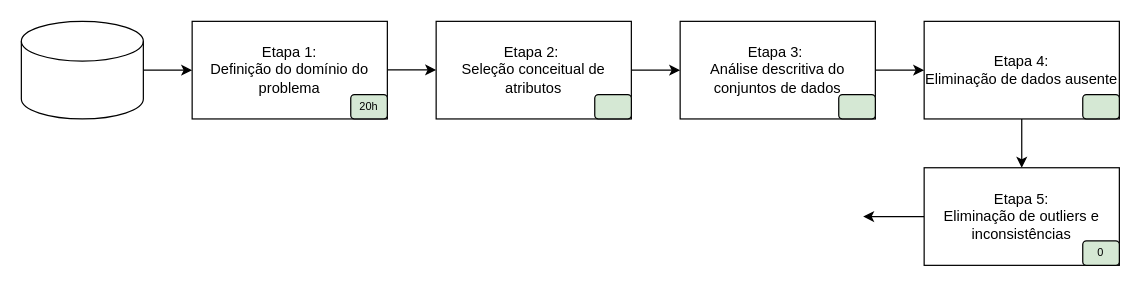
This 1141x287 diagram has some shape labels left out. Each missing label, with the centre of its shape:
"3h" belongs at point (1100, 106).
"4h" belongs at point (856, 106).
"6h" belongs at point (612, 106).
"Base de Dados PNS" belongs at point (81, 69).
